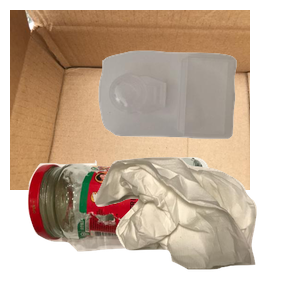cardboard: (10, 10, 250, 190)
glass: (25, 155, 227, 300)
plastic: (96, 48, 300, 179)
trash: (90, 155, 300, 300)
